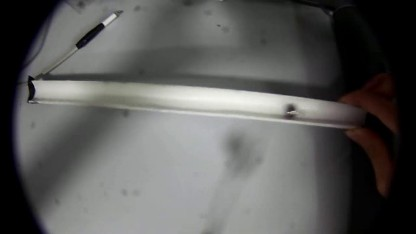gangzhu: (281, 101, 296, 119)
